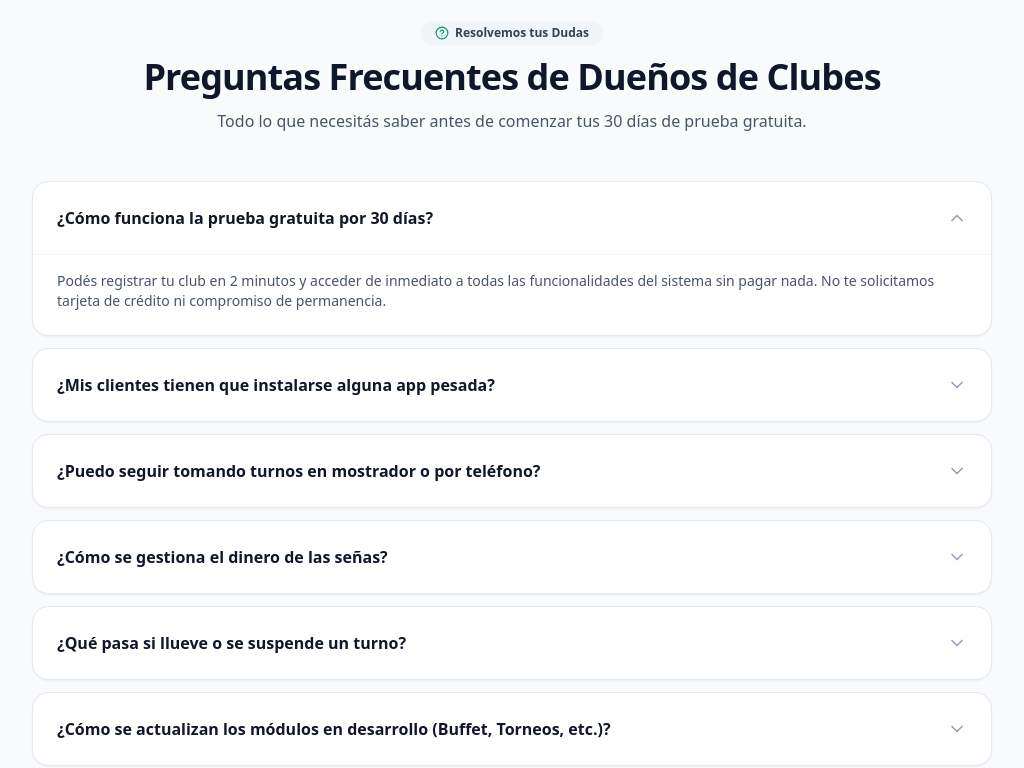
Test: Landing Page Vendedora (PortalPage) › permite abrir y cerrar las preguntas frecuentes (FAQ accordion)
(page scrolled)
Expected: the text "Podés registrar tu club en 2 minutos y acceder de inmediato" is shown, [57, 270, 934, 310]
// Hacemos click en la segunda pregunta
Click the button "¿Mis clientes tienen que instalarse alguna app pesada?": (276, 384) [33, 348, 991, 420]
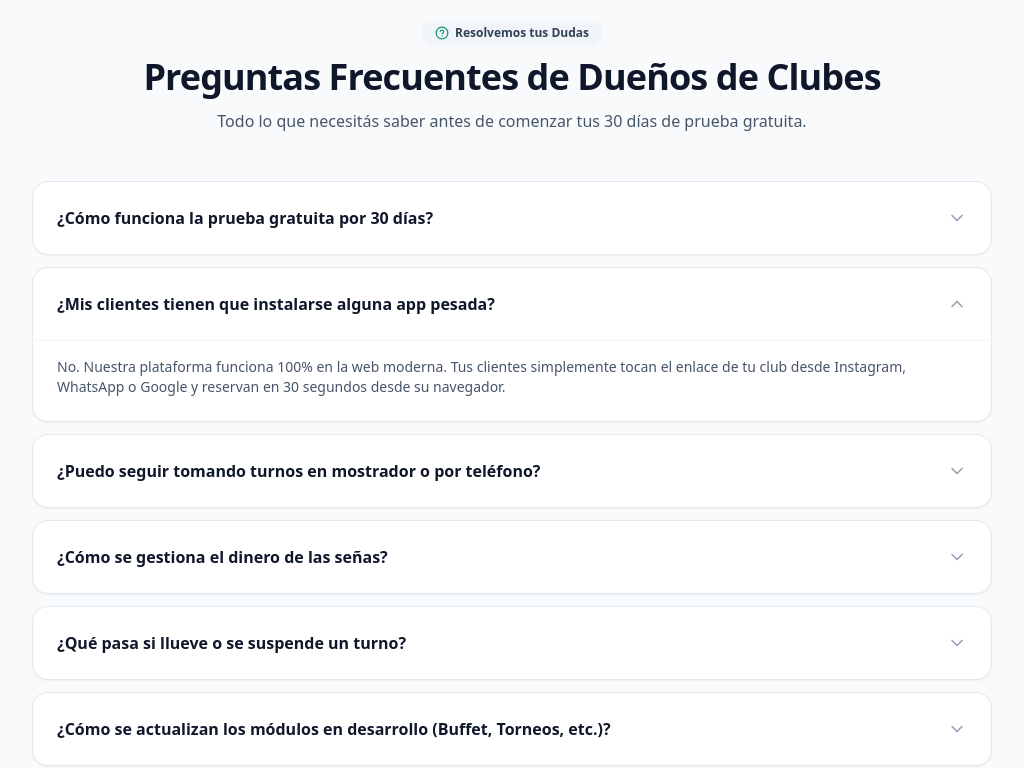
Expected: the text "Nuestra plataforma funciona 100% en la web moderna" is shown, [57, 356, 906, 396]
